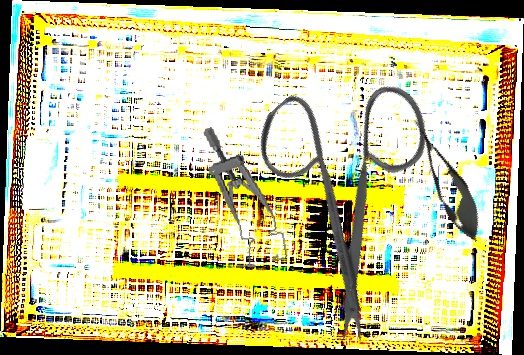Iris Scissors: (196, 35, 512, 352)
Micro Scissor: (400, 111, 493, 249)
Speculum: (200, 117, 290, 274)
